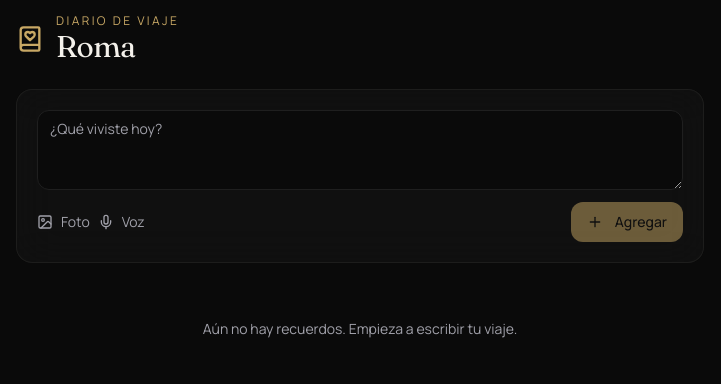
nota de voz en el diario (grabación + transcripción en el servidor) › grabar → contador visible → detener → transcribe en español y queda en el cuadro para revisar
The width and height of the screenshot is (721, 384).
Later steps or results of the test are not shown.
Expected: the heading "Roma" is shown, [56, 28, 136, 65]
Type "Día 3" into the text box named "Entrada del diario".
click(360, 150); type("Día 3")  # box [37, 110, 683, 190]
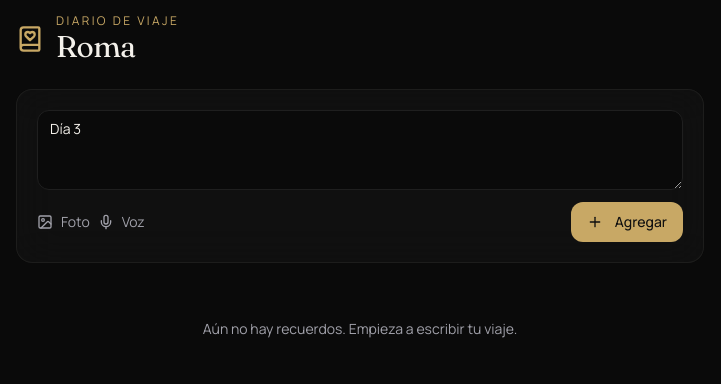
Click the button with aria-label "Grabar nota de voz".
click(121, 222)  # box [98, 212, 145, 232]
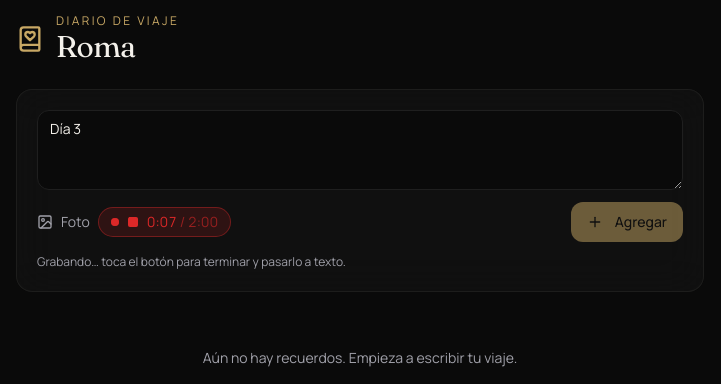
Result: the button "Agregar" is disabled at [571, 202, 683, 242]
Result: the element with test id "voice-timer" reads "0:07 / 2:00" at [147, 212, 218, 232]
Click the button named "Detener grabación (0:07)".
click(164, 222)  # box [98, 207, 231, 237]
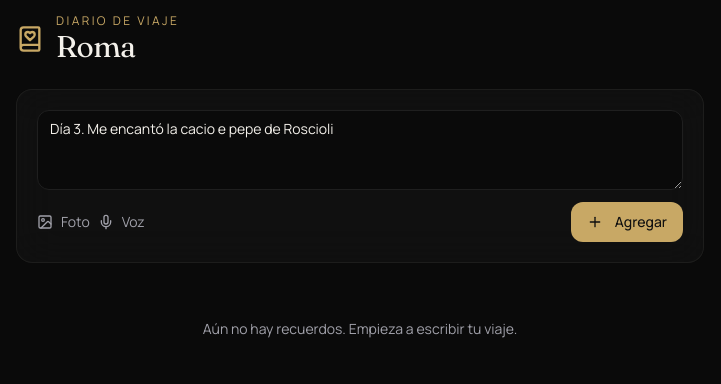
Result: the text box named "Entrada del diario" holds "Día 3. Me encantó la cacio e pepe de Roscioli" at [37, 110, 683, 190]
Result: the button "Agregar" is enabled at [571, 202, 683, 242]
